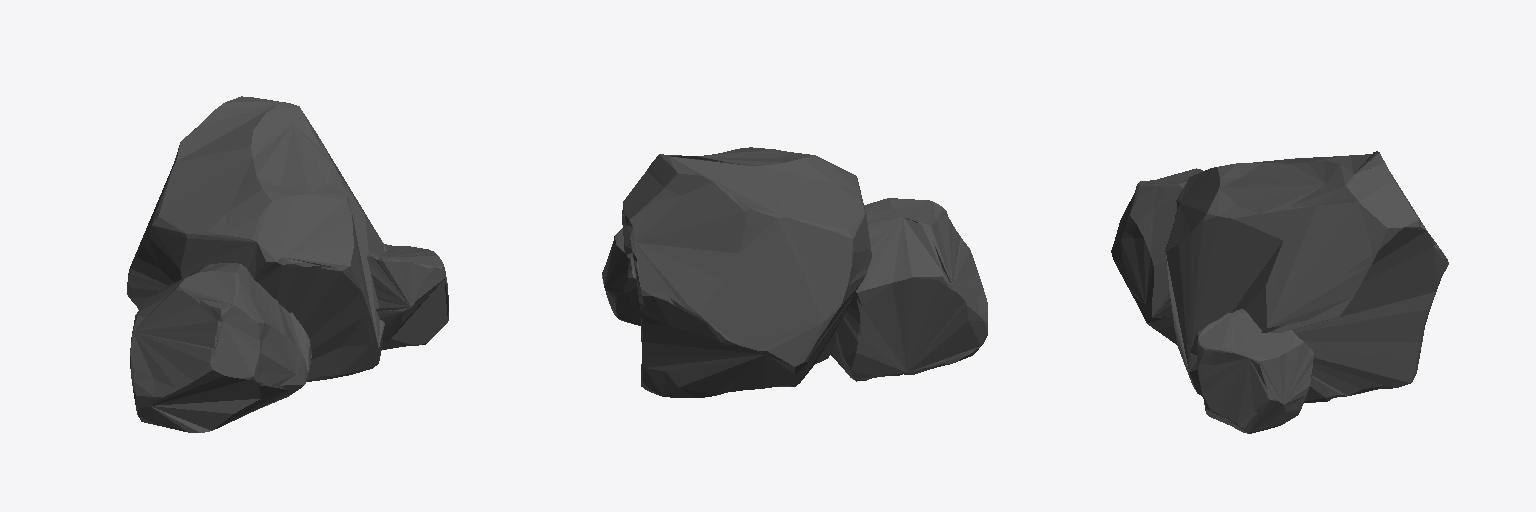
The model's file is mesh-rocks.obj.
The picture shows the model from 3 angles: view 1: azimuth 30°, elevation 25°; view 2: azimuth 150°, elevation 25°; view 3: azimuth 270°, elevation 25°; orthographic projection.
Parts seen in each view (by area): view 1: Cube, Cube.001, Cube.002; view 2: Cube, Cube.001, Cube.002; view 3: Cube, Cube.002, Cube.001.
Part boxes in pixels (x1,y1,x2,y2): Cube: (127, 96, 386, 381); Cube.001: (130, 263, 311, 432); Cube.002: (367, 244, 448, 349); Cube: (622, 147, 871, 397); Cube.001: (830, 198, 987, 381); Cube.002: (602, 228, 640, 325); Cube: (1165, 151, 1448, 402); Cube.002: (1190, 309, 1313, 433); Cube.001: (1111, 168, 1202, 344).
Bounding box in the file's own units: 2.74 × 1.73 × 2.36.